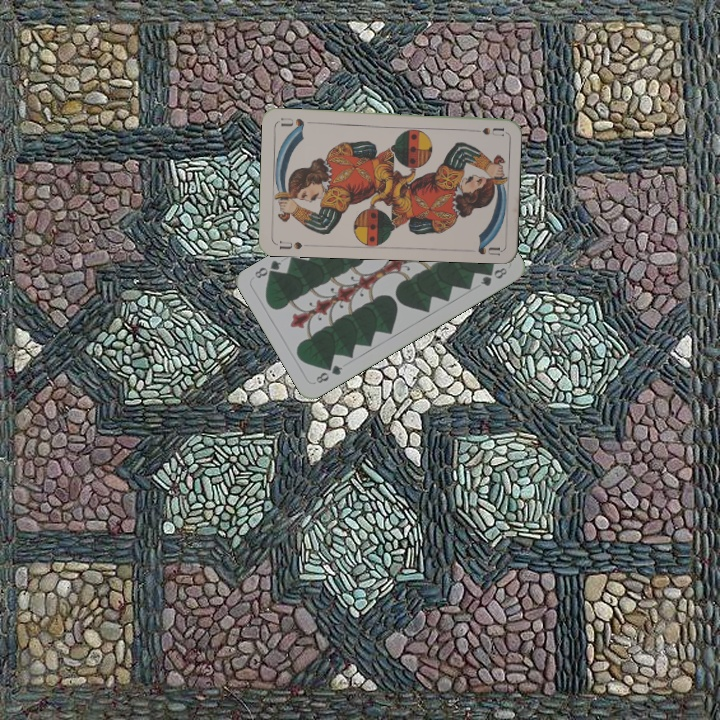G8: (312, 361, 345, 386)
SU: (465, 123, 505, 138), (276, 237, 305, 252)
